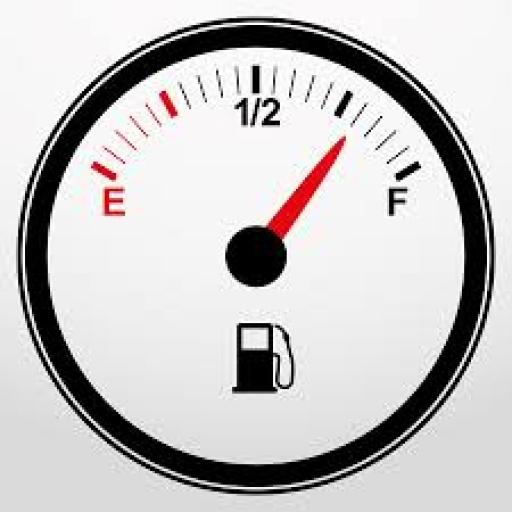empty: (99, 186, 132, 216)
fuel_icon: (220, 318, 304, 400)
full: (386, 186, 412, 219)
guage_area: (15, 12, 499, 500)
needle_center: (212, 218, 300, 295)
needle_tip: (335, 128, 353, 158)
